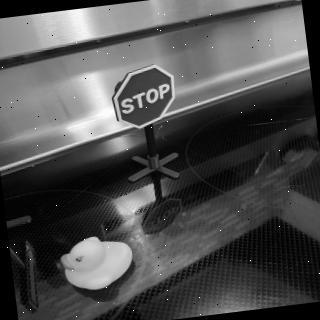duck_regular: (58, 232, 140, 299)
sign_stop: (109, 62, 184, 136)
